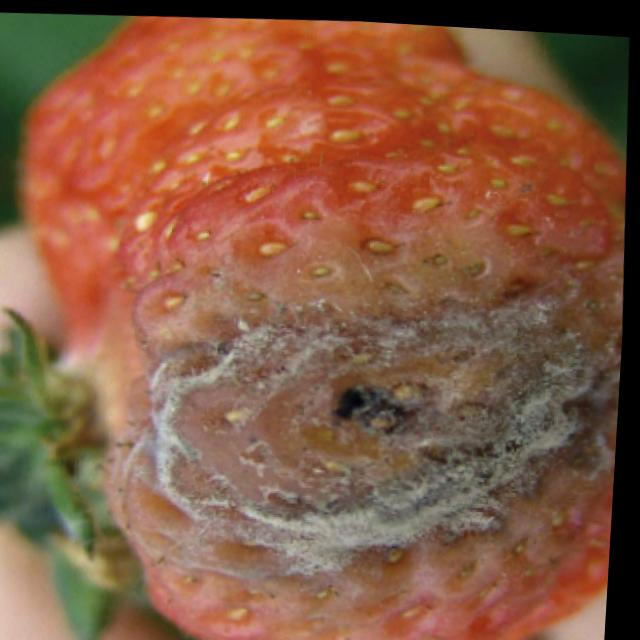Gray Mold: (62, 117, 627, 640)
